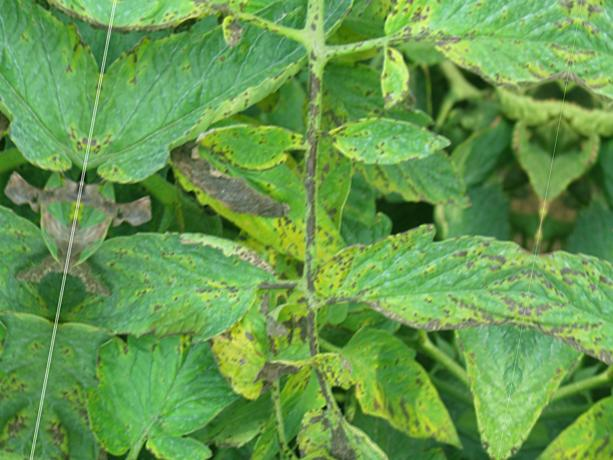Tomato leaf bacterial spot: (83, 0, 368, 220), (305, 182, 537, 362), (75, 204, 293, 370), (80, 288, 259, 460), (362, 0, 588, 102), (320, 324, 487, 457), (320, 101, 457, 185), (195, 109, 311, 186), (371, 41, 421, 118), (268, 446, 412, 460)
